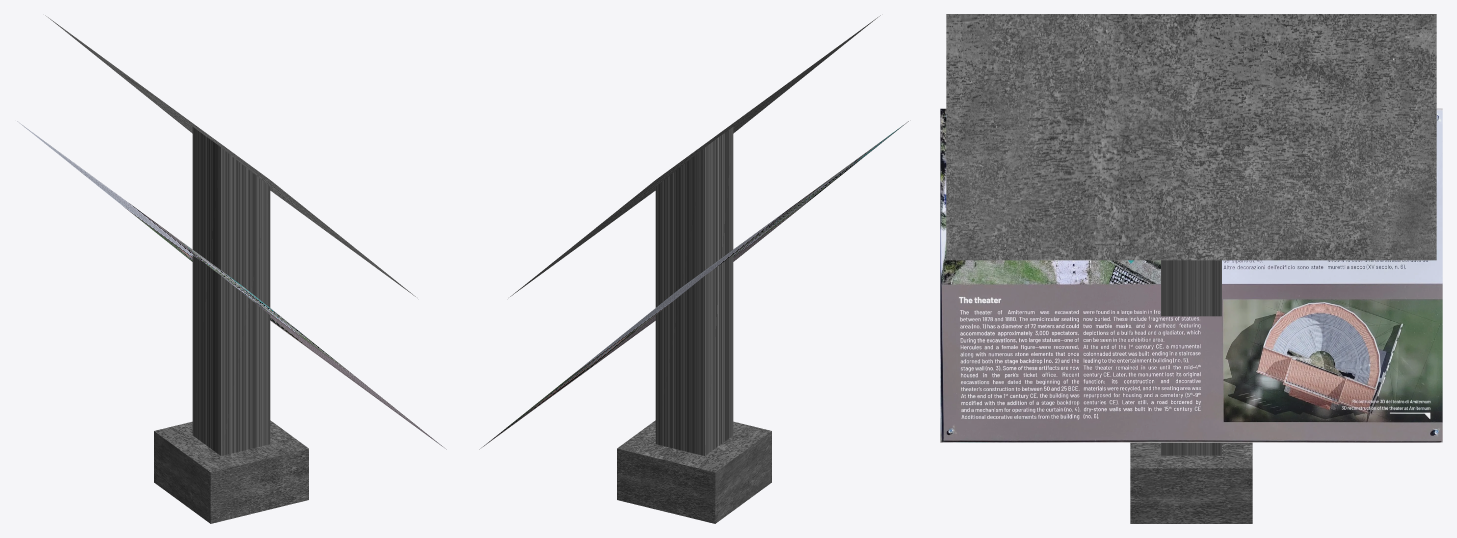
Rendered from PInizio.glb.
The picture shows the model from 3 angles, left to right: view 1: azimuth 30°, elevation 25°; view 2: azimuth 150°, elevation 25°; view 3: azimuth 270°, elevation 25°; orthographic projection. The views are drawn at different scales.
Visible parts, largest first — view 1: Cube, Plane; view 2: Cube, Plane; view 3: Cube, Plane.
Part boxes in pixels (bbox=[...]): Cube: bbox=[45, 15, 415, 523]; Plane: bbox=[17, 121, 446, 449]; Cube: bbox=[510, 15, 880, 523]; Plane: bbox=[479, 121, 908, 449]; Cube: bbox=[946, 14, 1436, 523]; Plane: bbox=[940, 108, 1442, 442].
Size of the model in its own units: 134385 by 262544 by 268689.
Materials: 2 (2 with a texture image).
